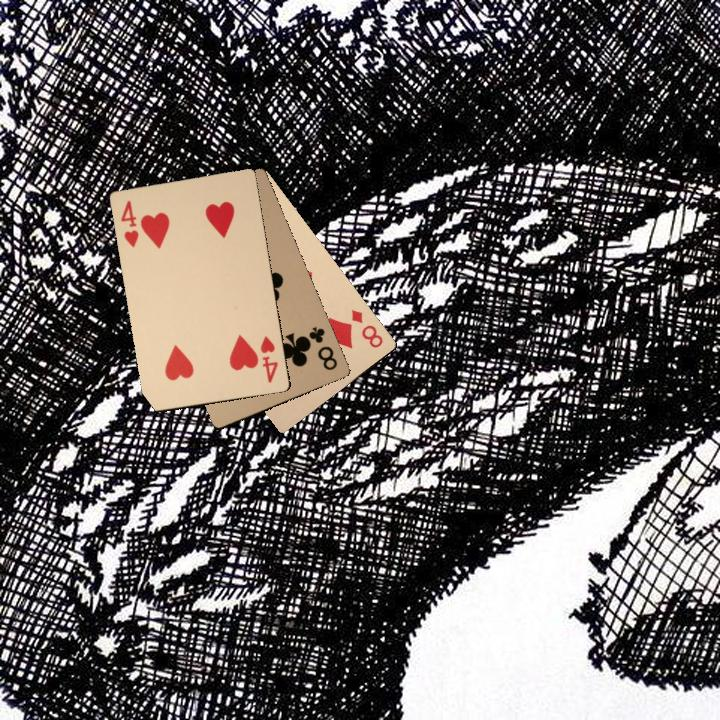4h: (117, 196, 141, 250), (256, 332, 280, 385)
8c: (304, 322, 340, 373)
8d: (347, 305, 385, 351)
